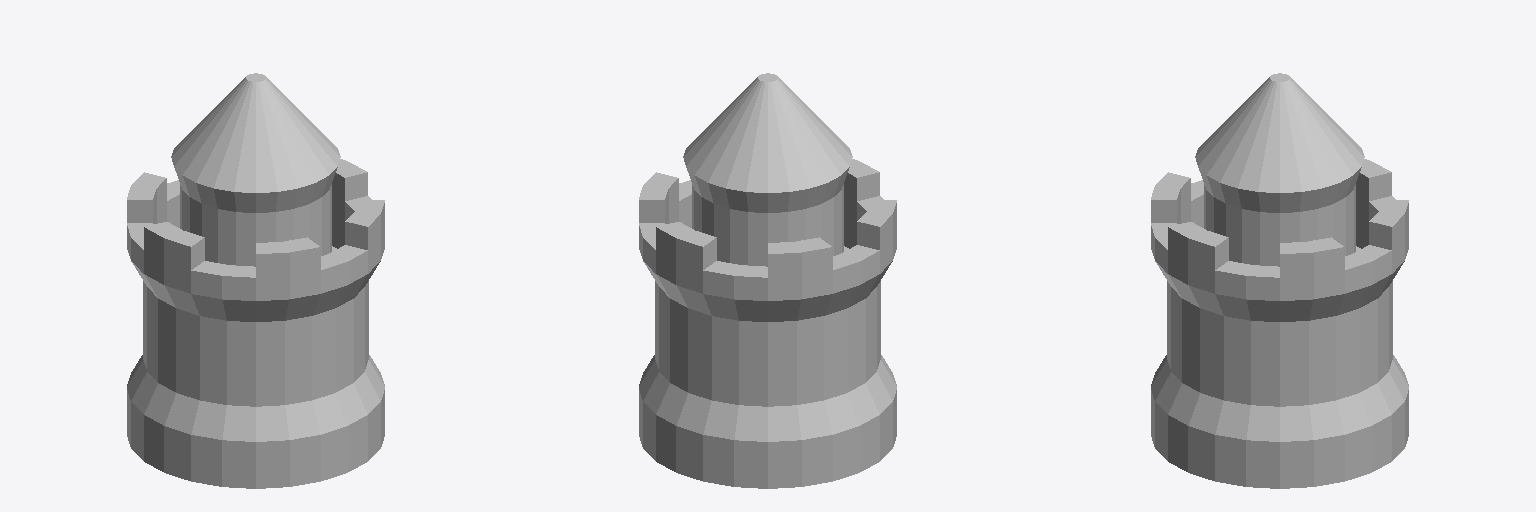
The model's file is towerRound_sampleF.obj.
The picture shows the model from 3 angles: view 1: azimuth 30°, elevation 25°; view 2: azimuth 150°, elevation 25°; view 3: azimuth 270°, elevation 25°; orthographic projection.
Parts seen in each view (by area): view 1: towerRound_sampleF; view 2: towerRound_sampleF; view 3: towerRound_sampleF.
Boxes of the visible parts, x1=… form: towerRound_sampleF: x1=127, y1=73, x2=384, y2=488; towerRound_sampleF: x1=639, y1=73, x2=896, y2=488; towerRound_sampleF: x1=1151, y1=73, x2=1408, y2=488.
Bounding box in the file's own units: 1 × 1.52 × 1.